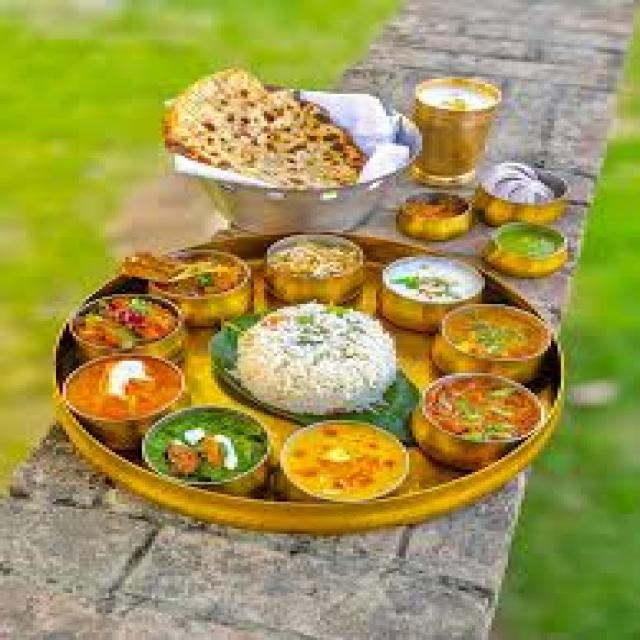dal: (276, 420, 413, 501)
raita: (373, 257, 490, 309)
rice: (209, 302, 403, 421)
roti: (151, 55, 371, 196)
sambar-rasam: (58, 350, 191, 431)
sweet: (143, 413, 262, 489)
veg: (414, 367, 558, 460)
veg-fry: (59, 290, 194, 363)
